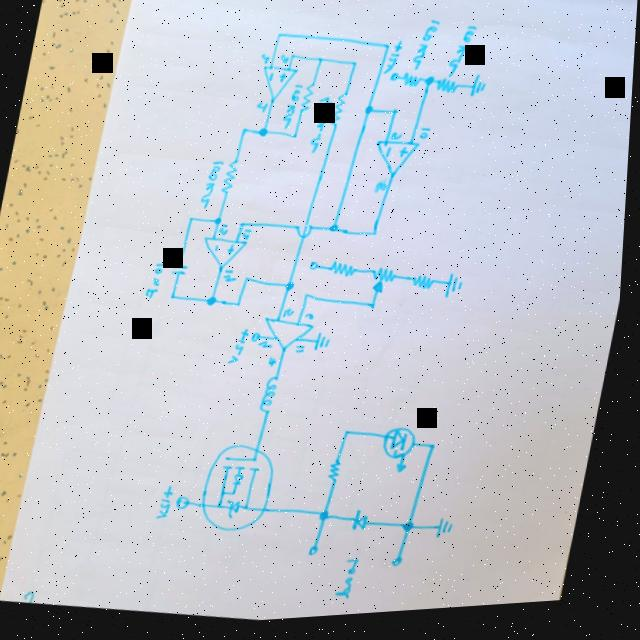capacitor: (170, 263, 192, 281)
crossover: (295, 224, 318, 246)
diode: (382, 429, 424, 481), (356, 513, 376, 538)
ground: (446, 277, 469, 308), (468, 78, 491, 108), (438, 520, 462, 548), (316, 335, 336, 358)
inductor: (262, 378, 283, 418)
junction: (321, 511, 338, 530), (328, 224, 344, 240), (406, 526, 421, 540), (423, 80, 436, 93), (207, 298, 221, 310), (258, 129, 270, 142), (369, 305, 381, 318), (370, 233, 382, 245), (214, 217, 225, 230), (286, 285, 298, 296), (431, 447, 443, 458), (345, 431, 356, 443), (390, 112, 401, 123), (304, 295, 315, 306), (240, 128, 250, 140), (273, 34, 284, 44), (381, 47, 391, 57), (350, 63, 360, 73), (365, 110, 374, 121), (291, 135, 300, 146), (170, 295, 180, 304), (239, 224, 248, 231), (189, 218, 196, 226), (245, 280, 253, 287), (237, 304, 245, 311), (317, 61, 324, 68)
resistor: (371, 271, 401, 301), (221, 162, 242, 199), (329, 95, 349, 132), (329, 262, 360, 285), (412, 278, 440, 299), (330, 461, 349, 491), (299, 86, 316, 117), (435, 82, 460, 102), (401, 75, 423, 95)
terminal: (311, 546, 327, 564), (395, 559, 411, 576), (180, 497, 196, 514), (310, 264, 322, 276), (389, 77, 400, 88), (254, 335, 265, 346)
text: (445, 29, 478, 86), (410, 21, 441, 77), (308, 99, 335, 160), (200, 161, 226, 214), (339, 559, 367, 608), (280, 86, 303, 135), (230, 330, 254, 370), (146, 262, 169, 303), (382, 44, 404, 82), (160, 486, 181, 525), (224, 272, 241, 288), (418, 130, 433, 148), (260, 342, 278, 355), (375, 185, 389, 201), (255, 104, 269, 118), (218, 226, 232, 239), (242, 231, 255, 245), (390, 134, 404, 147), (277, 56, 290, 69), (270, 359, 283, 372), (285, 311, 299, 323), (259, 56, 271, 69), (298, 348, 309, 358), (307, 317, 318, 325)
transistor: (200, 441, 284, 542)
